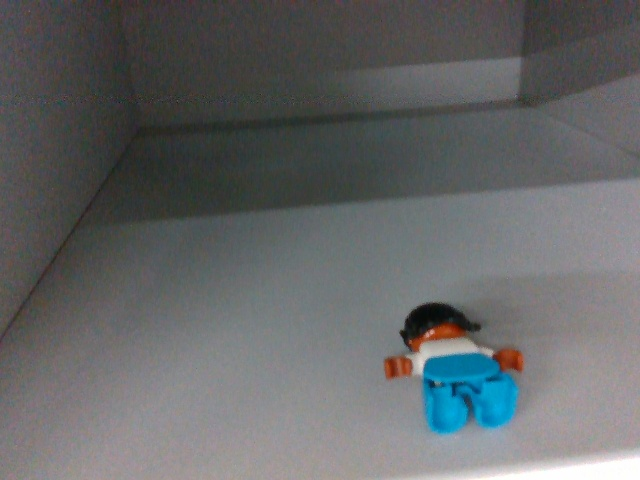people: (383, 299, 526, 434)
